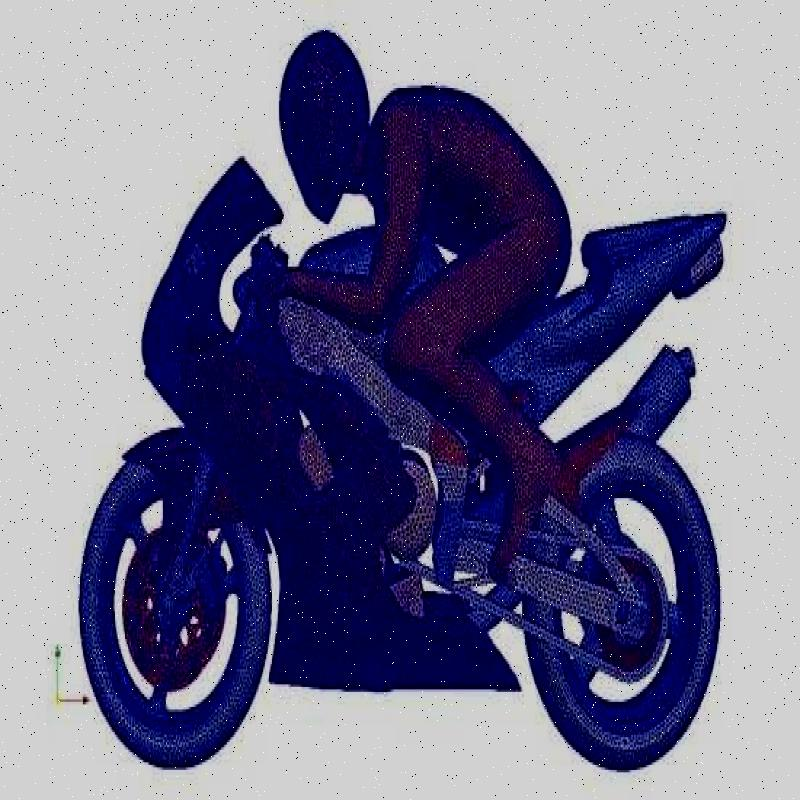bike: (81, 182, 714, 769)
